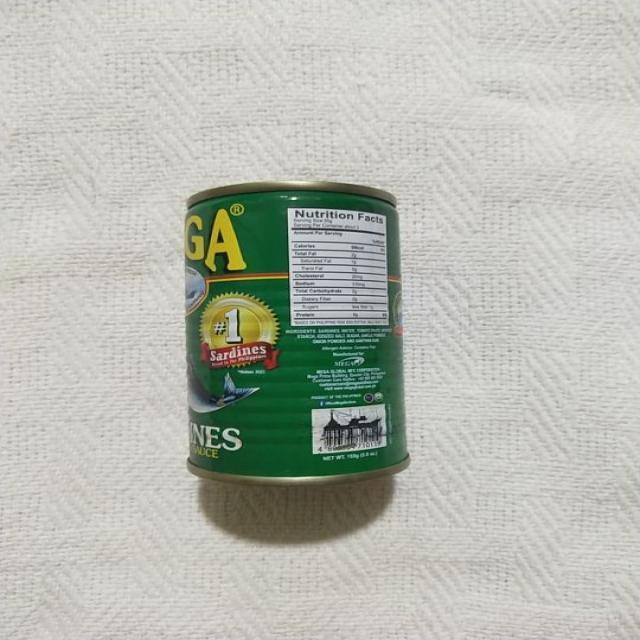metal-can: (181, 178, 410, 484)
